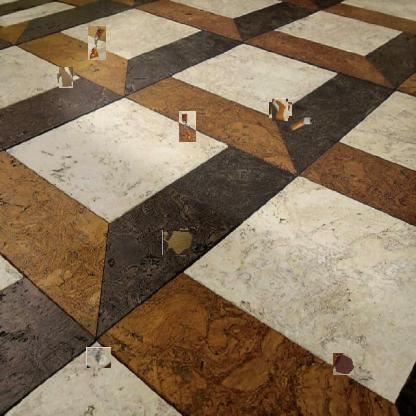dirty: (88, 26, 106, 60), (178, 110, 196, 142), (86, 347, 111, 368), (289, 116, 315, 132), (271, 100, 290, 120), (57, 68, 75, 86)
liquid: (163, 228, 192, 257), (332, 354, 354, 376)
